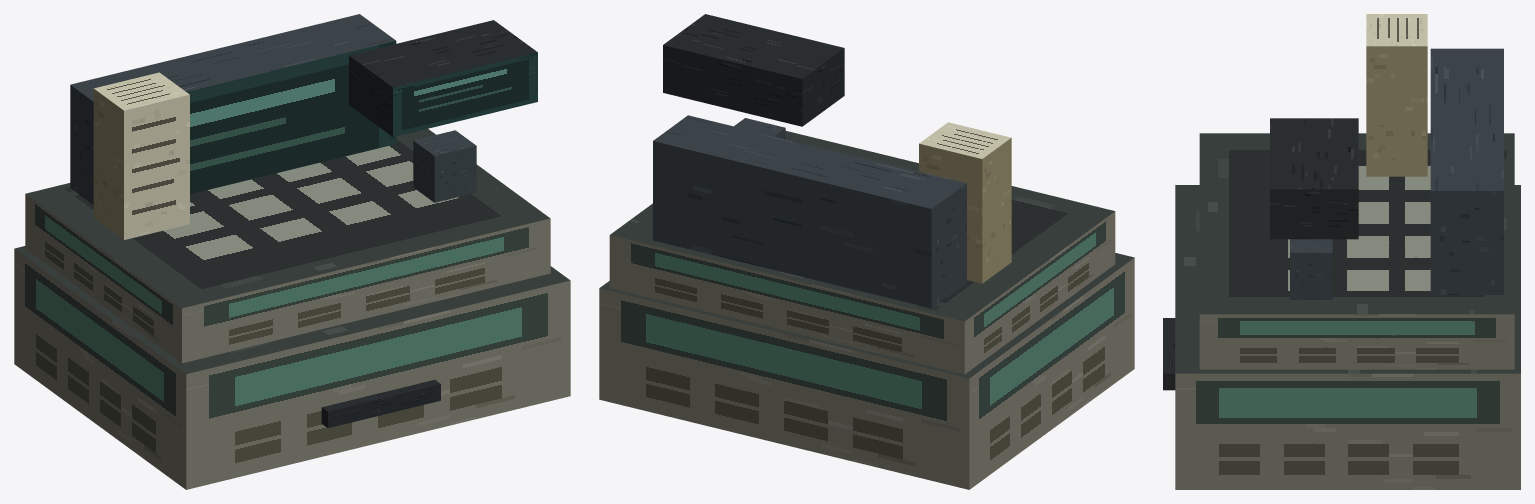
The model's file is caja_registradora_c02.glb.
3 views of the same model, side by side, from view 1: azimuth 30°, elevation 25°; view 2: azimuth 150°, elevation 25°; view 3: azimuth 270°, elevation 25° (orthographic). The views are drawn at different scales.
Parts seen in each view (by area): view 1: caja_registradora_c02; view 2: caja_registradora_c02; view 3: caja_registradora_c02.
Part boxes in pixels (x1=…): caja_registradora_c02: x1=14, y1=14, x2=570, y2=489; caja_registradora_c02: x1=599, y1=14, x2=1134, y2=489; caja_registradora_c02: x1=1163, y1=14, x2=1520, y2=489.
Size of the model in its own units: 0.4618 by 0.3383 by 0.3566.
1 material, 1 textured.
